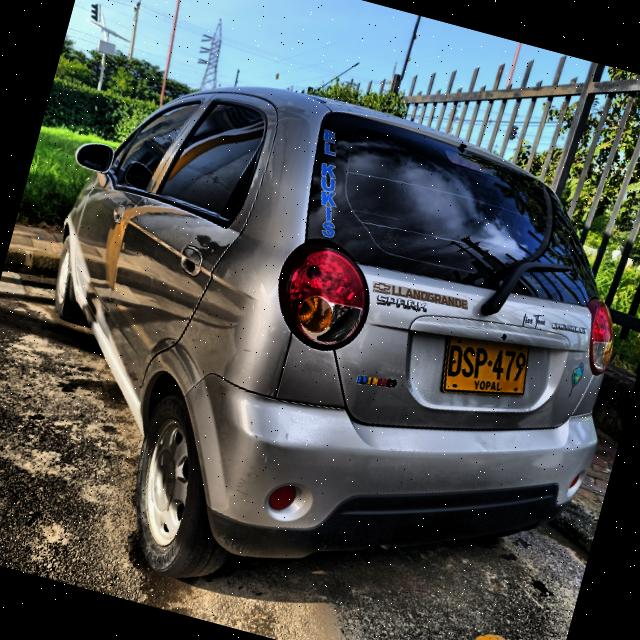4: (491, 349, 504, 379)
7: (502, 350, 517, 381)
9: (511, 351, 526, 381)
D: (447, 344, 464, 377)
P: (472, 347, 487, 378)
S: (460, 345, 476, 378)
